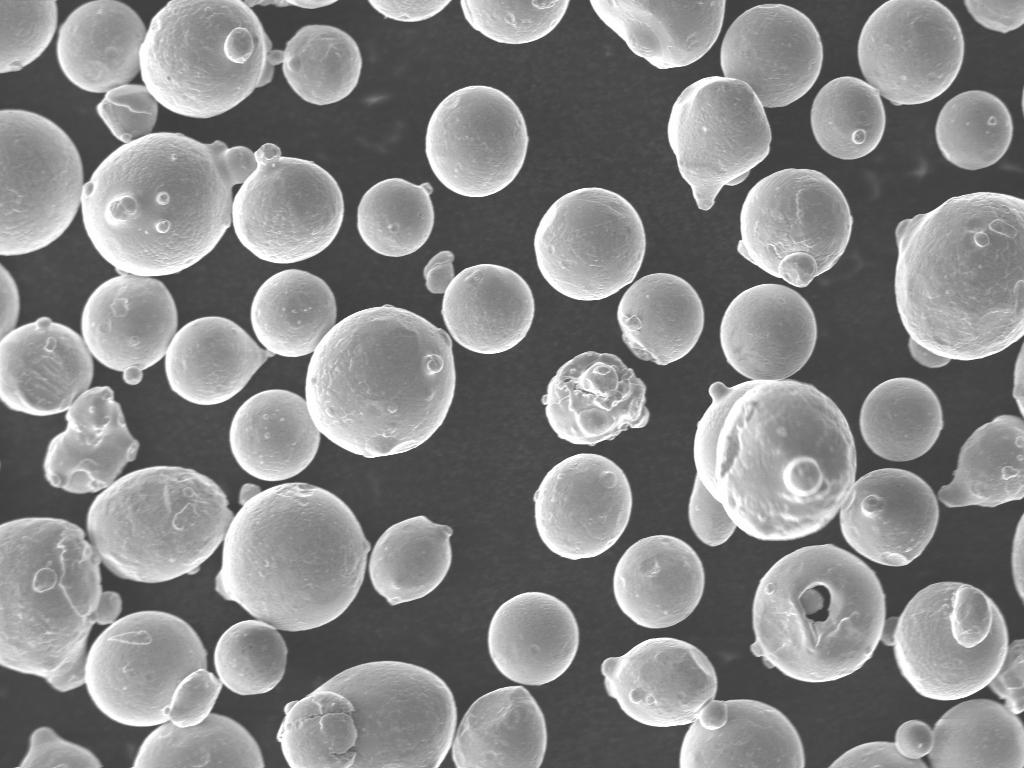Powder: (688, 380, 856, 546), (82, 132, 258, 276), (216, 482, 370, 631), (306, 306, 456, 458), (894, 192, 1024, 367), (0, 518, 122, 691), (278, 662, 456, 766), (752, 544, 886, 682), (86, 466, 234, 582), (140, 0, 282, 118), (882, 582, 1008, 700), (668, 76, 772, 209), (86, 612, 206, 726), (738, 168, 852, 287), (232, 144, 344, 263), (134, 668, 264, 768), (534, 188, 646, 300), (0, 110, 82, 253), (424, 250, 534, 353), (426, 86, 528, 195), (858, 0, 964, 104), (82, 274, 178, 386), (720, 4, 822, 107), (44, 386, 140, 494), (534, 454, 632, 559), (602, 638, 718, 726), (542, 352, 650, 445), (840, 468, 938, 566), (720, 284, 818, 380), (166, 316, 272, 403), (0, 318, 94, 416), (590, 0, 725, 68), (488, 592, 580, 686), (680, 700, 804, 768), (56, 0, 146, 92), (614, 536, 704, 628), (230, 390, 320, 481), (618, 274, 704, 365), (938, 416, 1024, 506), (452, 686, 546, 768), (368, 516, 452, 605), (250, 270, 336, 356), (860, 378, 944, 462), (928, 698, 1024, 768), (810, 76, 886, 160), (282, 26, 362, 104), (936, 90, 1014, 170), (358, 178, 434, 256), (216, 622, 288, 694), (830, 720, 934, 768), (460, 0, 568, 44), (0, 0, 58, 73), (96, 84, 158, 143), (20, 728, 100, 768), (990, 640, 1024, 714), (964, 0, 1024, 32), (368, 1, 450, 22), (0, 264, 20, 337), (1012, 514, 1024, 601), (1012, 344, 1024, 415)
